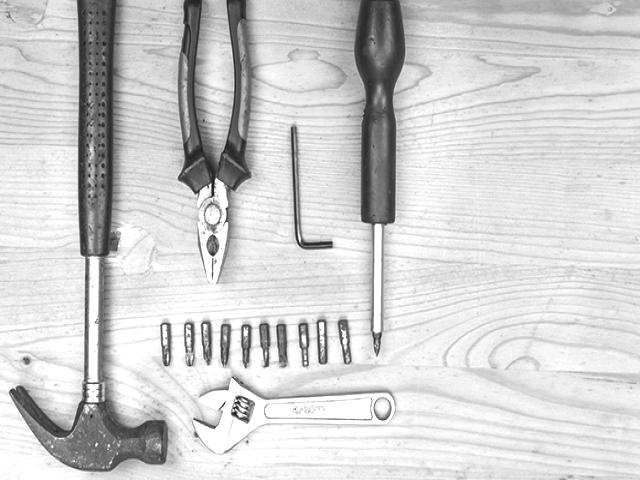Adjustable spanner: (192, 377, 395, 452)
Hammer: (10, 2, 168, 472)
Screwdriver: (179, 2, 251, 285), (355, 1, 405, 355)
